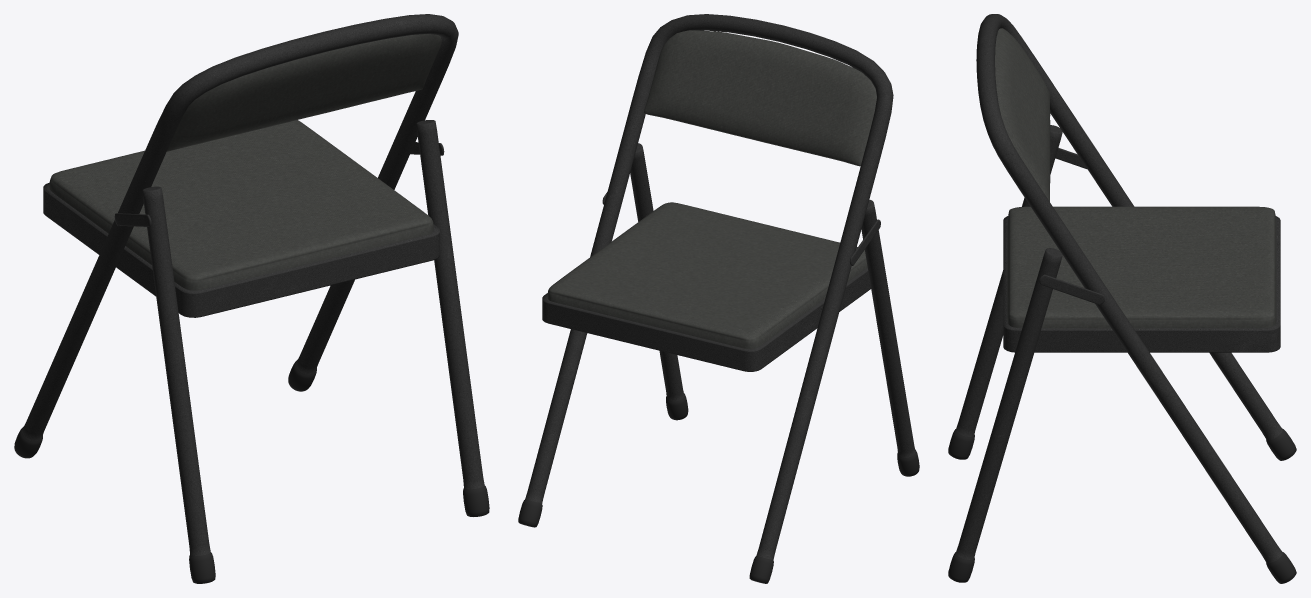
Rendered from Chair36.fbx.
3 views of the same model, side by side, from view 1: azimuth 30°, elevation 25°; view 2: azimuth 150°, elevation 25°; view 3: azimuth 270°, elevation 25° (orthographic). The views are drawn at different scales.
Visible parts, largest first — view 1: Chair36; view 2: Chair36; view 3: Chair36.
Part boxes in pixels (box(x1,y1,x2,y2)): Chair36: box(14, 14, 489, 583); Chair36: box(518, 14, 919, 583); Chair36: box(948, 14, 1296, 583).
Bounding box in the file's own units: 46.74 × 76.88 × 51.81.
